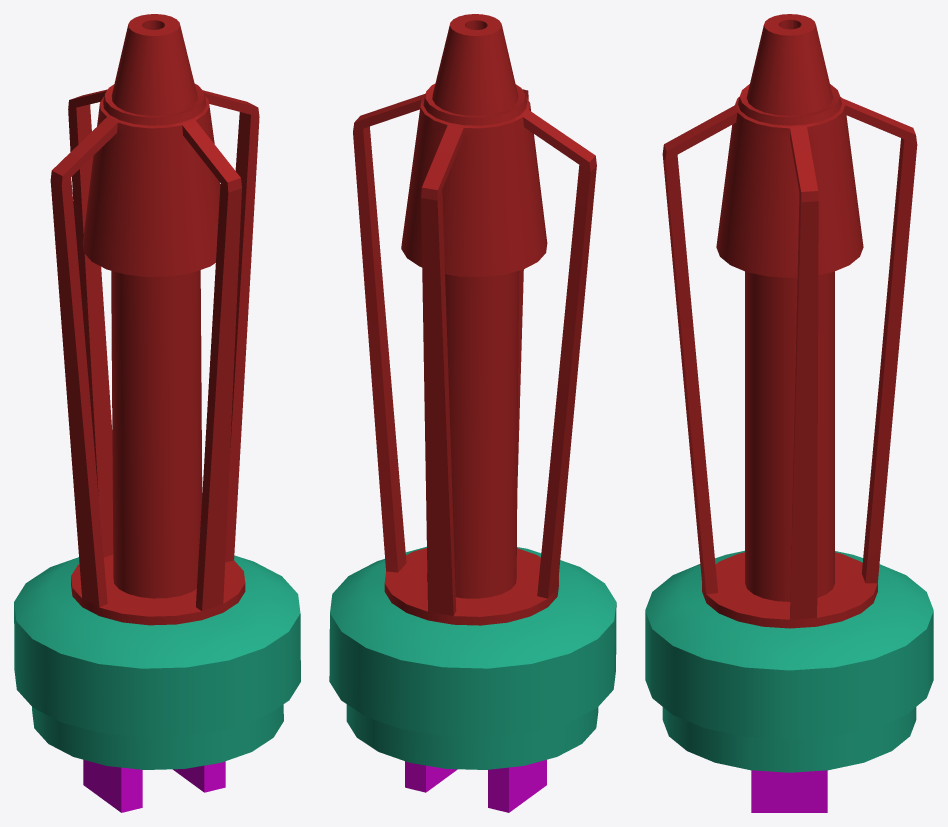
Rendered from LaserWeapon.fbx.
3 renders of one model, left to right at view 1: azimuth 30°, elevation 25°; view 2: azimuth 150°, elevation 25°; view 3: azimuth 270°, elevation 25°, orthographic.
Visible parts, largest first — view 1: pCylinder33, pCylinder32, pCube56, pCube57; view 2: pCylinder33, pCylinder32, pCube56, pCube57; view 3: pCylinder33, pCylinder32, pCube57.
Part boxes in pixels (<box>): pCylinder33: <box>50,14,259,625</box>; pCylinder32: <box>14,555,300,769</box>; pCube56: <box>83,759,142,812</box>; pCube57: <box>173,761,225,792</box>; pCylinder33: <box>353,14,596,625</box>; pCylinder32: <box>329,546,616,769</box>; pCube56: <box>488,759,546,812</box>; pCube57: <box>405,761,457,792</box>; pCylinder33: <box>662,14,917,628</box>; pCylinder32: <box>645,550,933,772</box>; pCube57: <box>751,770,827,812</box>.
Size of the model in its own units: 2 by 5.83 by 2.
